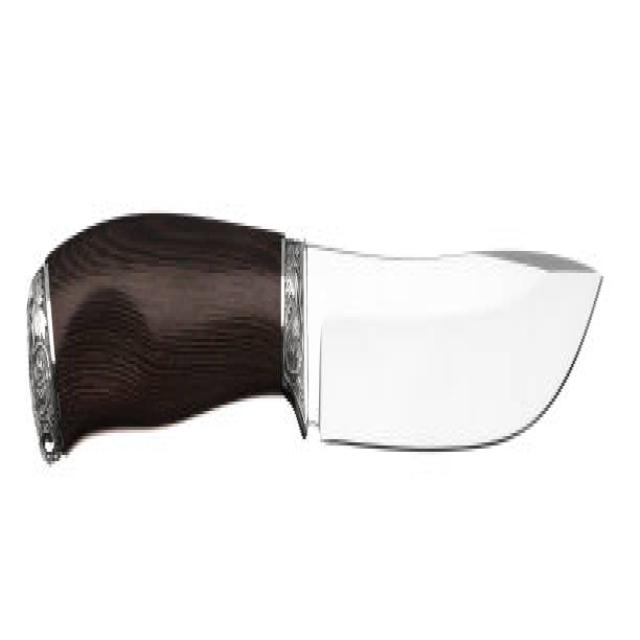knife: (29, 205, 606, 490)
